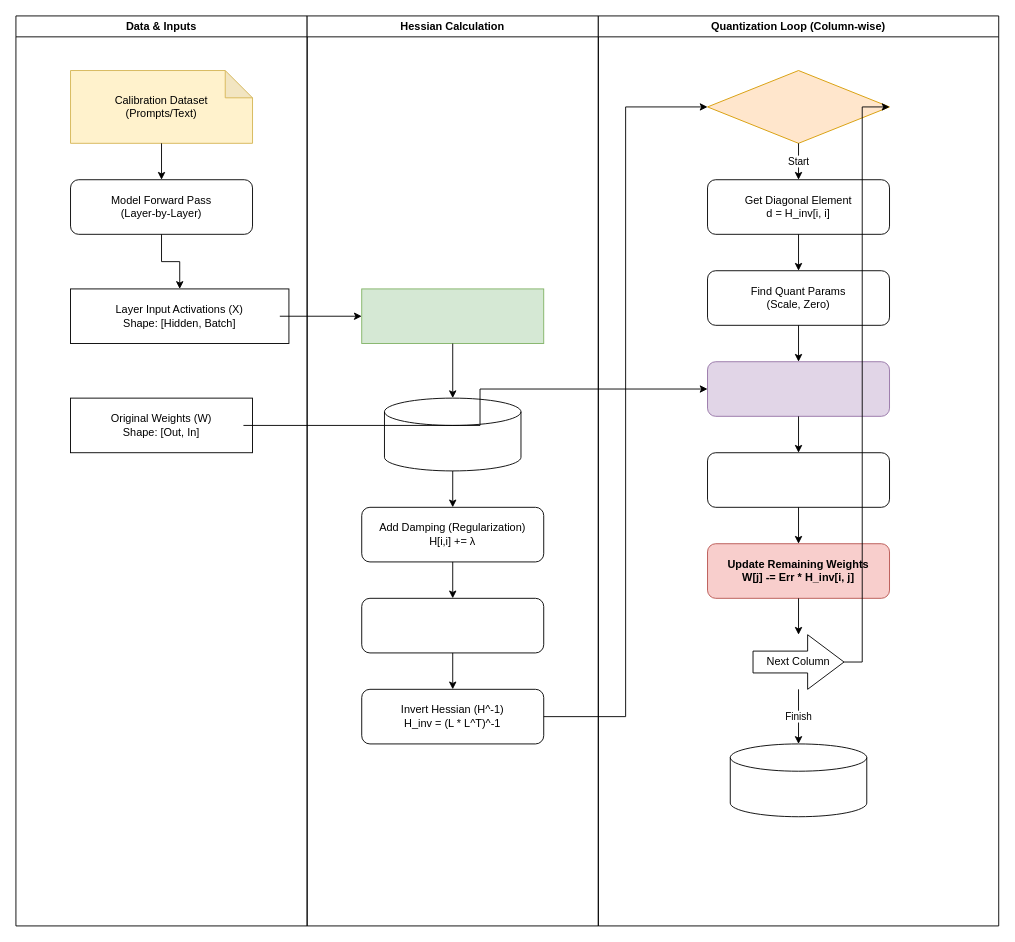
This 1015x942 diagram has some shape labels left out. The shapes that lost their labels are listed below. From the top down, each one's centre as x and y in pixels, then its label:
the point at 798,106: For Each Column i (0 to N)
the point at 452,316: Accumulate Hessian (H) H += X * X^T
the point at 798,388: Quantize Weight W[i] Q[i] = round(W[i] / scale) * scale
the point at 452,434: Hessian Matrix (H) Shape: [In, In]
the point at 798,479: Calculate Error Err = (W[i] - Q[i]) / d
the point at 452,625: Cholesky Decomposition L = cholesky(H)
the point at 798,780: Store Quantized Weight Q
